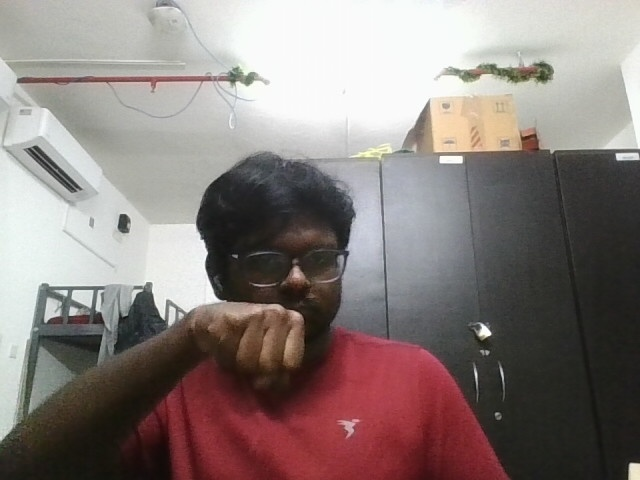Yes: (177, 280, 323, 391)
